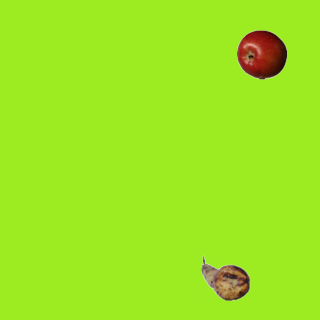Apple Braeburn: (236, 29, 286, 79)
Pear Abate: (200, 253, 250, 303)
